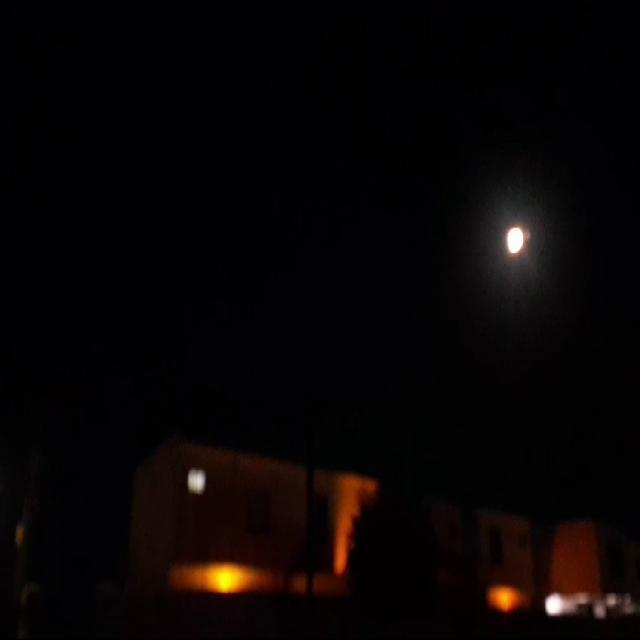moon: (504, 222, 528, 256)
